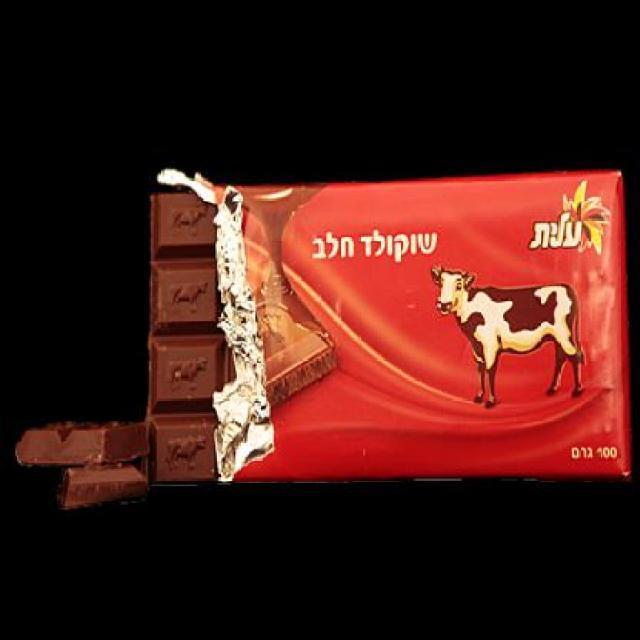Chocolate bar: (217, 174, 637, 490)
Chocolate bar packaged: (144, 188, 218, 497), (12, 416, 148, 469)
